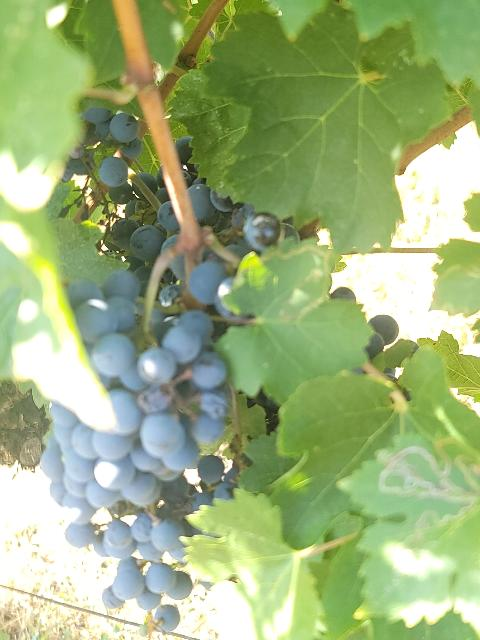grapes: (41, 271, 230, 546)
